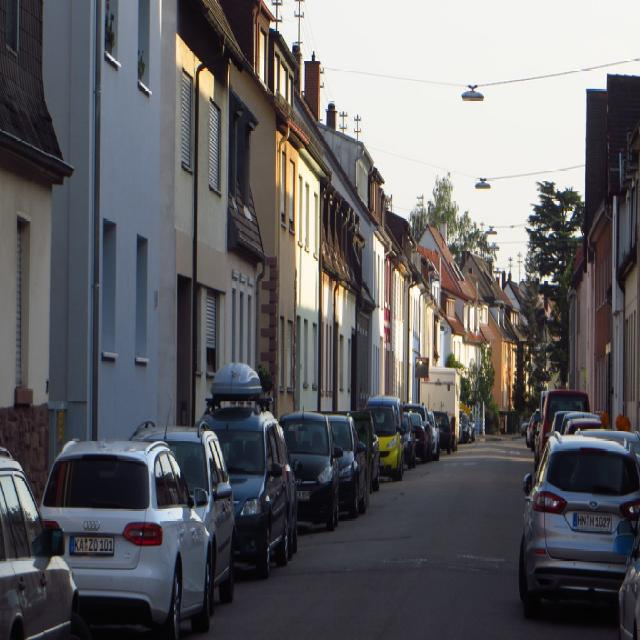car: (521, 411, 639, 615)
